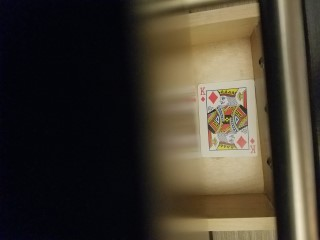KingOfDiamonds: (196, 78, 259, 159)
